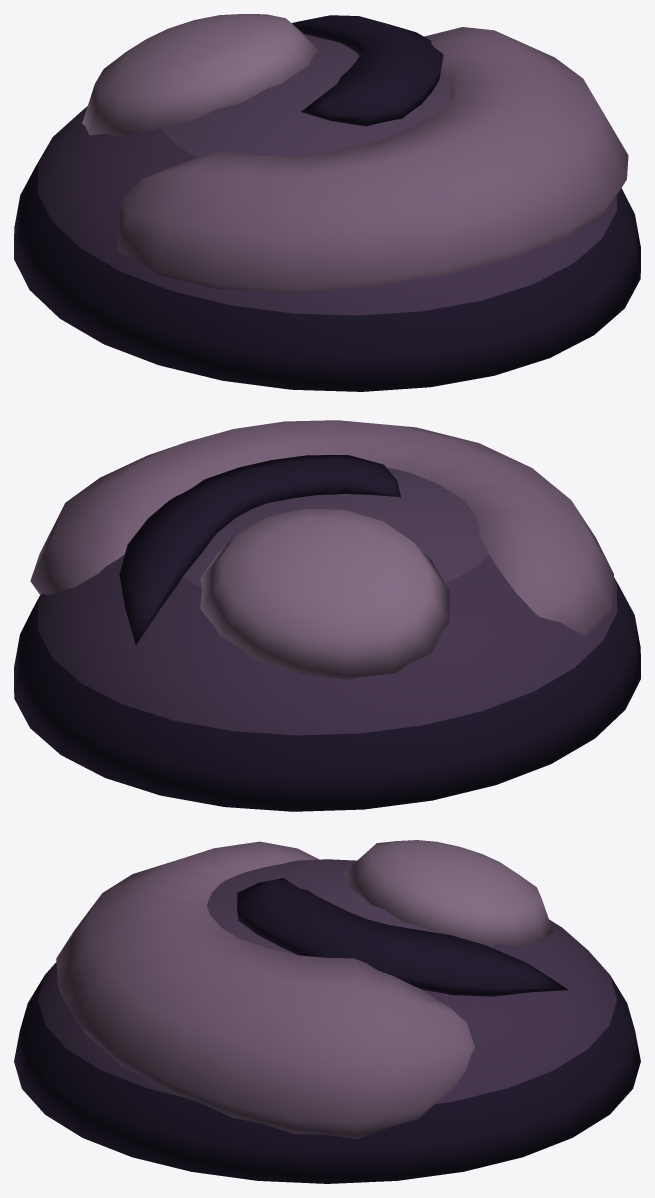
File: newshm-117-f3.glb
3 views of the same model, one above another, from view 1: azimuth 30°, elevation 25°; view 2: azimuth 150°, elevation 25°; view 3: azimuth 270°, elevation 25° (orthographic). The views are drawn at different scales.
Parts seen in each view (by area): view 1: newshm-117-f3; view 2: newshm-117-f3; view 3: newshm-117-f3.
Boxes of the visible parts, x1,y1,x2,y2 form: newshm-117-f3: [14, 14, 640, 391]; newshm-117-f3: [14, 420, 640, 811]; newshm-117-f3: [14, 840, 640, 1183].
Size of the model in its own units: 1.44 by 0.5006 by 1.55.
